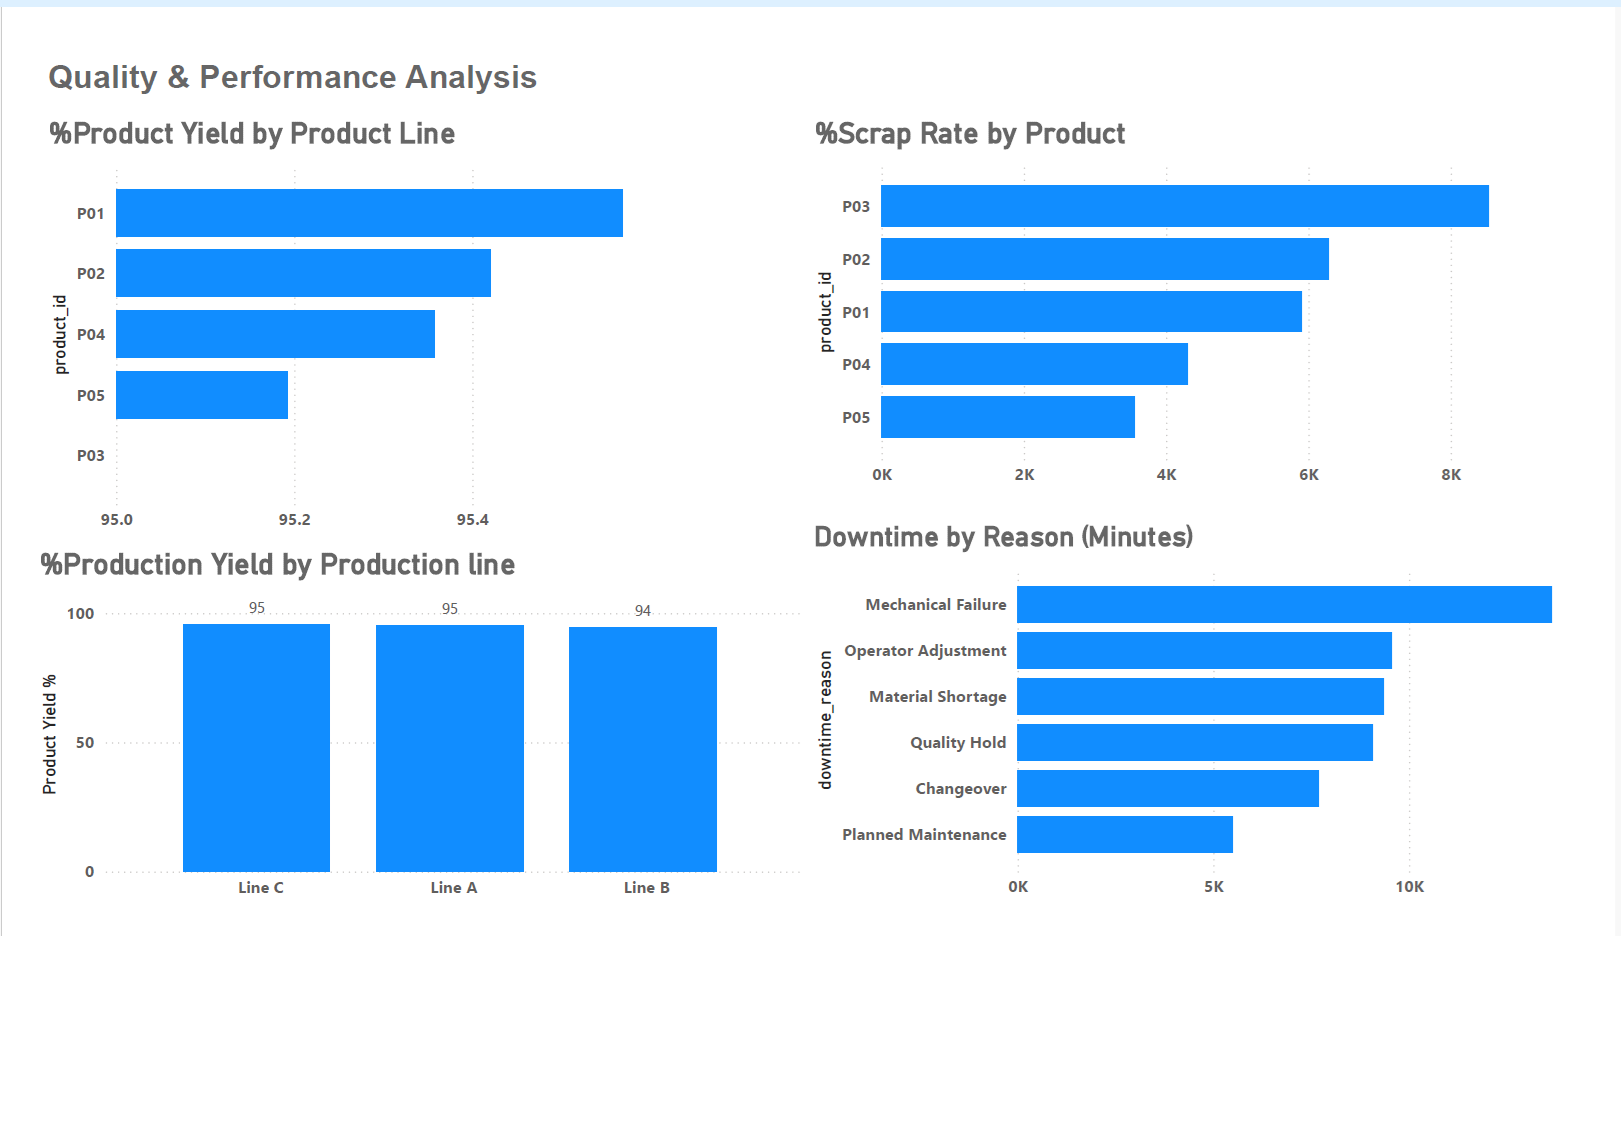

Layout of this report page (visuals, bound fields, positions):
{"tool":"powerbi","page":{"name":"Page 2","canvas":[1280,720],"ordinal":1},"visuals":[{"type":"textbox","box":[9.5,14.2,543.4,102.4],"z":0},{"type":"clusteredBarChart","title":"%Product Yield  by Product Line","fields":{"Category":["vw_valid_production.product_id"],"Y":["dim_lines.Product Yield %"]},"box":[9.6,65.9,496.8,351.3],"z":1},{"type":"clusteredBarChart","title":"%Scrap Rate by Product","fields":{"Category":["vw_valid_production.product_id"],"Y":["Sum(vw_valid_production.scrap_units)"]},"box":[639.5,65.9,601.1,314.3],"z":2},{"type":"clusteredColumnChart","title":"%Production Yield by Production line","fields":{"Category":["vw_valid_production.line_id"],"Y":["dim_lines.Product Yield %"]},"box":[1.6,420.5,637.9,299.3],"z":3},{"type":"clusteredBarChart","title":"Downtime by Reason (Minutes)","fields":{"Category":["fact_downtime_events_clean.downtime_reason"],"Y":["Sum(fact_downtime_events_clean.downtime_minutes)"]},"box":[639.5,399.3,640.9,319.8],"z":4}]}

Visuals, with their boxes on the page's 1280x720 design canvas (x1, y1, x2, y2). These are canvas units, not pixel positions in the 1621x1127 screenshot, which may show the page scaled, cropped or inside an application window:
textbox: BBox(10, 14, 553, 117)
"%Product Yield  by Product Line" clusteredBarChart: BBox(10, 66, 506, 417)
"%Scrap Rate by Product" clusteredBarChart: BBox(640, 66, 1241, 380)
"%Production Yield by Production line" clusteredColumnChart: BBox(2, 420, 640, 720)
"Downtime by Reason (Minutes)" clusteredBarChart: BBox(640, 399, 1280, 719)
